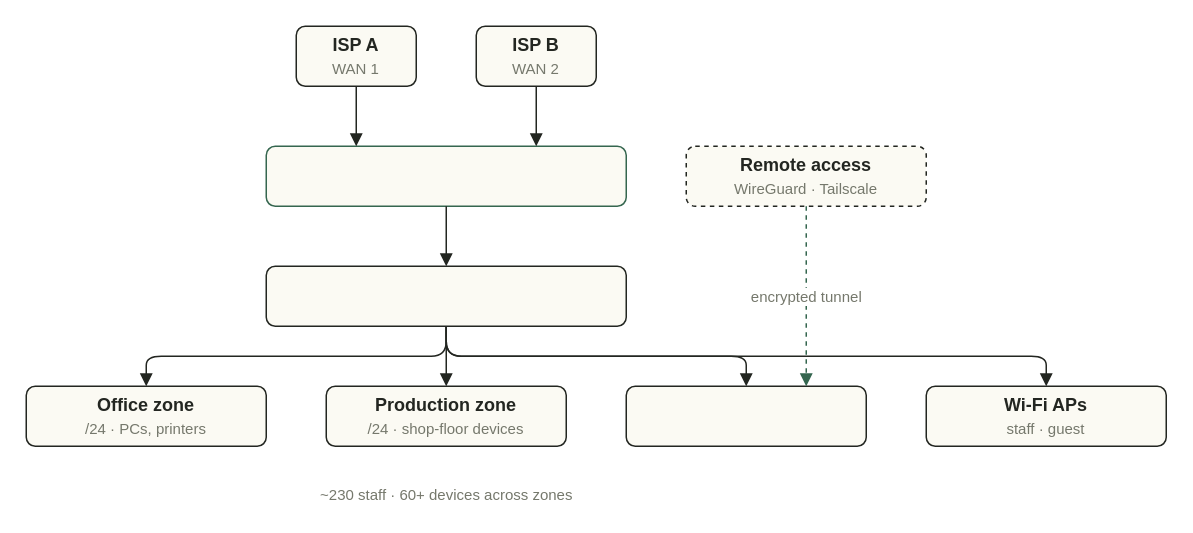
This 1193x533 diagram has some shape labels left out. The shapes that lost their labels are listed below. From the top down, each one's centre as x and y in pixels, then its label:
At pixel 445 175: "Load-Balancing Router dual-WAN · automatic failover".
At pixel 445 295: "Core Switch structured /24 IP plan".
At pixel 745 415: "Server zone /24 · Proxmox cluster".
